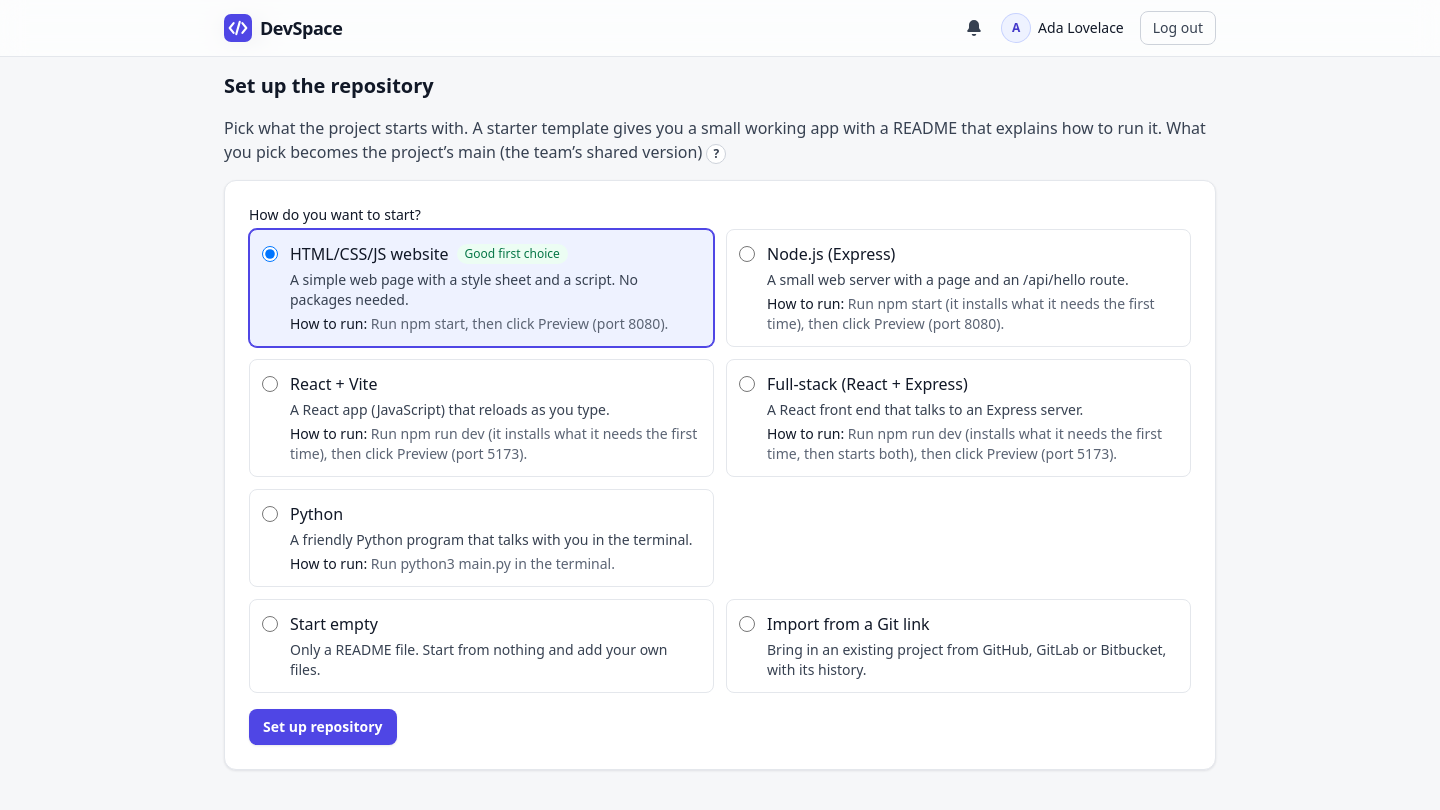
Test: repository setup › lets a leader start empty, then shows the files
(page scrolled)
Expected: the heading "Set up the repository" is shown, x1=224 y1=72 x2=434 y2=99
Step 1. Click the radio button labelled "Start empty" → click(270, 624), box x1=262 y1=616 x2=278 y2=632
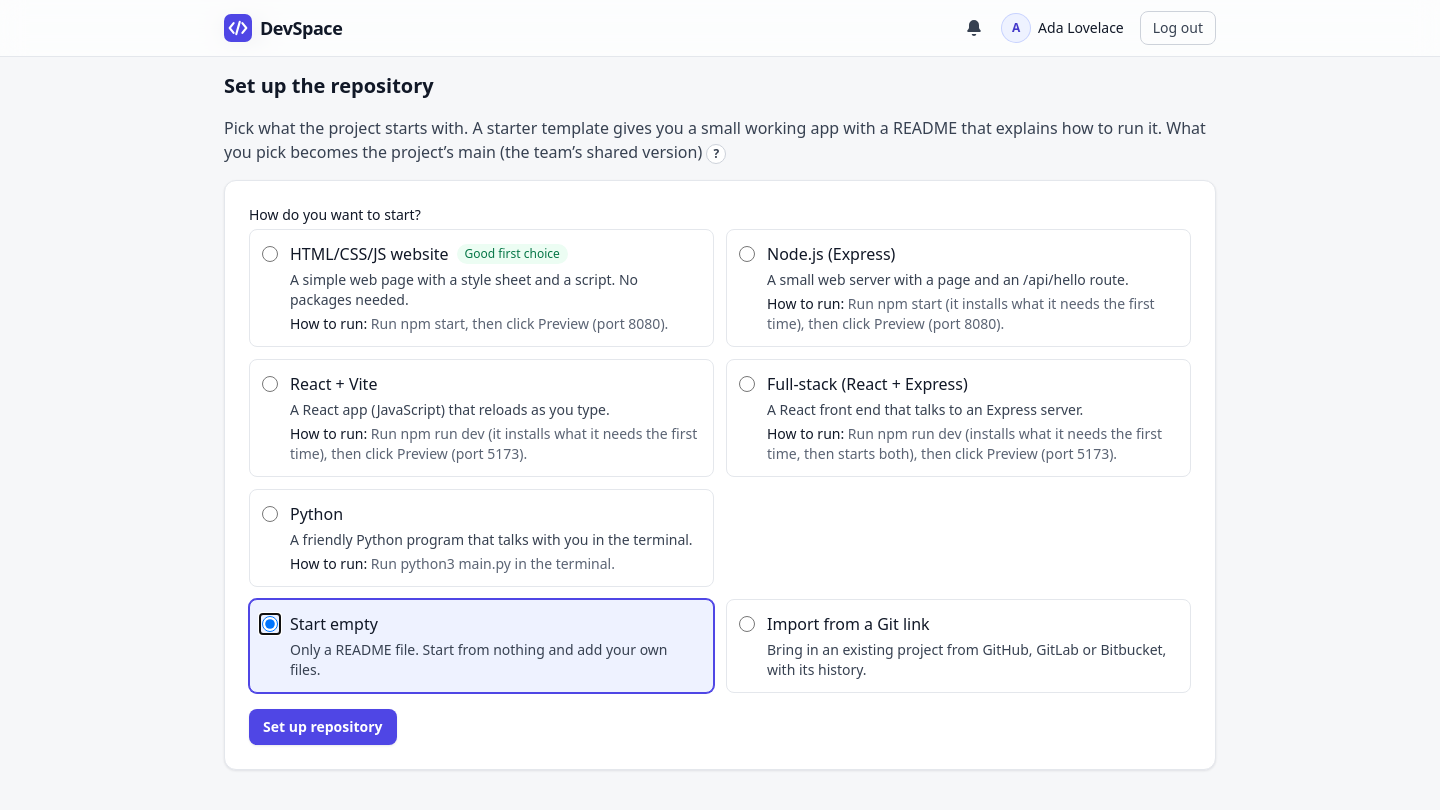
Now the radio button labelled "Start empty" is checked, box x1=262 y1=616 x2=278 y2=632
Step 2. Click the button "Set up repository" → click(323, 727), box x1=249 y1=709 x2=397 y2=745
(page scrolled)
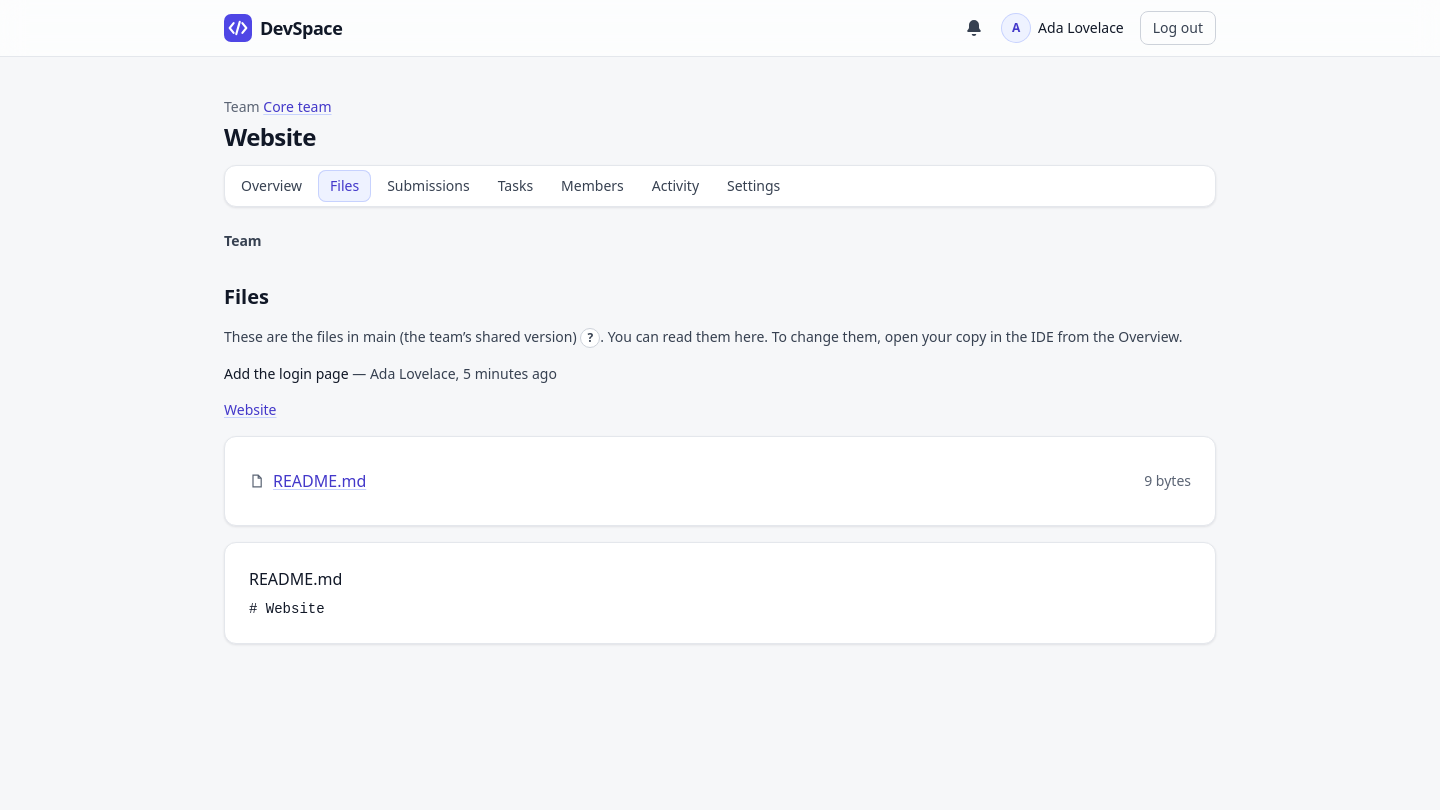
Now the link "README.md" is shown, box x1=273 y1=469 x2=366 y2=493
